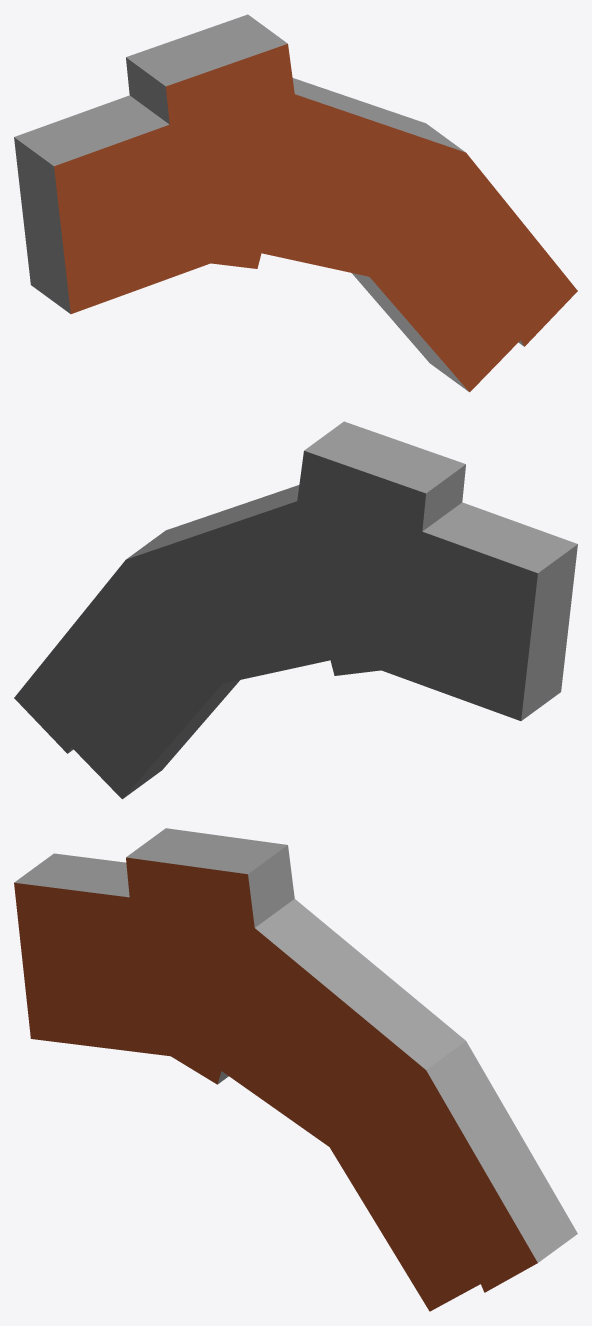
Rendered from construction_6013_assumed_A_Casa_h6m.obj.
3 renders of one model, top to bottom at view 1: azimuth 30°, elevation 25°; view 2: azimuth 150°, elevation 25°; view 3: azimuth 330°, elevation 25°, orthographic.
Parts seen in each view (by area): view 1: construction_6013_assumed_A_Casa; view 2: construction_6013_assumed_A_Casa; view 3: construction_6013_assumed_A_Casa.
Part boxes in pixels (<box>): construction_6013_assumed_A_Casa: <box>14,14,577,392</box>; construction_6013_assumed_A_Casa: <box>14,421,577,799</box>; construction_6013_assumed_A_Casa: <box>14,828,577,1311</box>.
Size of the model in its own units: 45.36 by 32.53 by 6.
